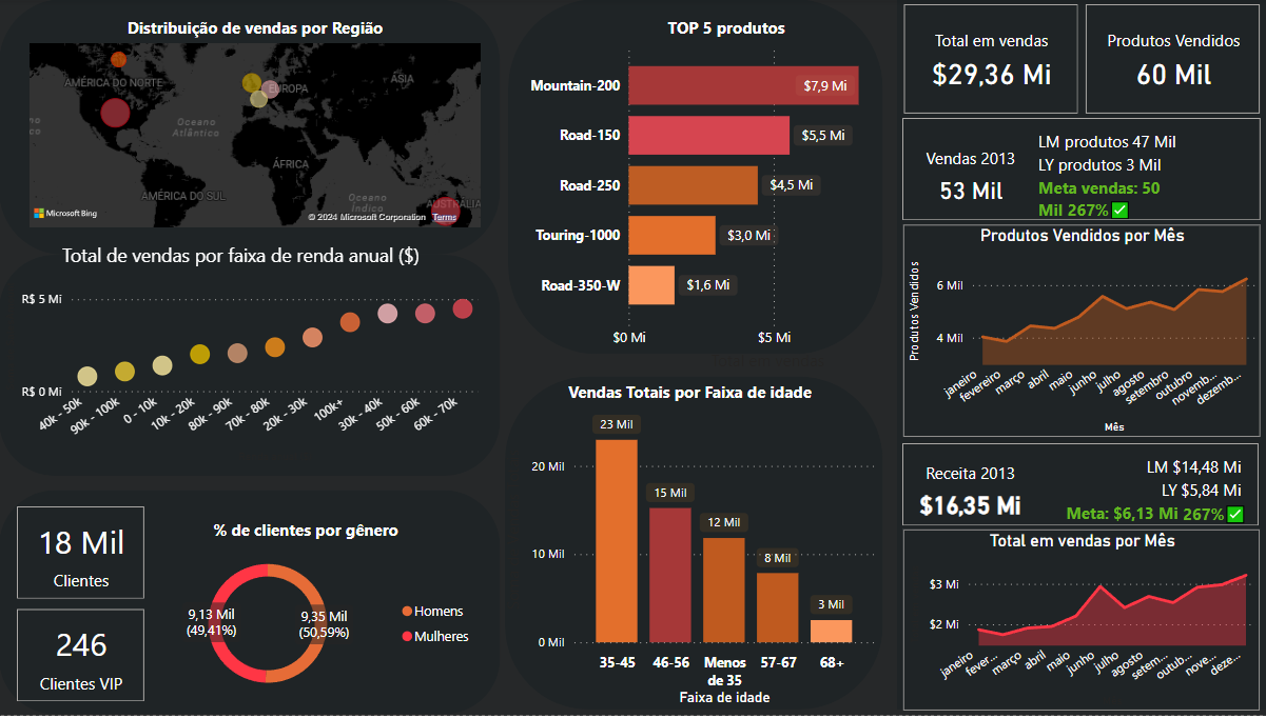

Layout of this report page (visuals, bound fields, positions):
{"tool":"powerbi","page":{"name":"Página 1","canvas":[1280,720],"ordinal":0},"visuals":[{"type":"shape","box":[0,0,503.8,257.5],"z":0},{"type":"shape","box":[0,257.5,503.8,222.5],"z":1000},{"type":"shape","box":[0,494.3,503.8,225.7],"z":2000},{"type":"shape","box":[508.6,379.9,379.9,335.4],"z":3000},{"type":"shape","box":[511.8,0,376.7,357.6],"z":4000},{"type":"shape","box":[902.8,0,376.7,715.2],"z":5000},{"type":"map","title":"Distribuição de vendas por Região","fields":{"Category":["DimGeography.CountryRegionName"],"Size":["Medidas.Total em vendas"]},"box":[25.4,17.5,464.1,217.7],"z":6000},{"type":"clusteredBarChart","title":"TOP 5 produtos","fields":{"Category":["DimProduct.EnglishProductName","DimProductCategory.Product Category Name"],"Y":["Medidas.Total em vendas"]},"box":[527.7,17.5,406.9,360.8],"z":7000},{"type":"areaChart","fields":{"Y":["Medidas.Total em vendas"],"Category":["DimCalendário.Date.Variation.Hierarquia de datas.Mês"]},"box":[909.1,533.6,358.2,181.8],"z":8000},{"type":"cardVisual","fields":{"Data":["Medidas.Total em vendas em 2013"]},"box":[903.3,441.1,368.9,93.3],"z":9000},{"type":"cardVisual","fields":{"Data":["Medidas.Produtos vendidos em 2013"]},"box":[903.3,114,370,113.3],"z":10000},{"type":"stackedAreaChart","fields":{"Category":["DimCalendário.Date.Variation.Hierarquia de datas.Mês"],"Y":["Medidas.Total de produtos Vendidas"]},"box":[909.2,226.9,358.5,213.1],"z":11000},{"type":"clusteredColumnChart","title":" Vendas Totais por Faixa de idade ","fields":{"Category":["DimCustomer.Faixa de idade"],"Y":["Sum(DimCustomer.Vendas Totais)"]},"box":[503.8,384.6,381.5,330.6],"z":12000},{"type":"cardVisual","fields":{"Data":["Medidas.Total em vendas","Medidas.Produtos Vendidos"]},"box":[904.6,0,368.5,120],"z":13000},{"type":"donutChart","title":"% de clientes por gênero","fields":{"Y":["Medidas.Clientes Homens","Medidas.Clientes Mulheres"]},"box":[130.3,522.9,356,189.1],"z":14000},{"type":"cardVisual","fields":{"Data":["Medidas.Clientes VIP"]},"box":[12.7,608.7,138.3,103.3],"z":15000},{"type":"cardVisual","fields":{"Data":["Medidas.Clientes"]},"box":[12.7,505.4,138.3,103.3],"z":16000},{"type":"scatterChart","title":"Total de vendas por faixa de renda anual ($)","fields":{"X":["DimCustomer.Renda anual ($)"],"Y":["Sum(FactSales.SalesAmount)"]},"box":[0,244.8,486.4,225.7],"z":17000}]}

Visuals, with their boxes in screenshot pixels (x1, y1, x2, y2), scaled from the page's 1280x720 canvas onto the 1266x716 screenshot:
shape: crop(0, 0, 498, 256)
shape: crop(0, 256, 498, 477)
shape: crop(0, 492, 498, 715)
shape: crop(503, 378, 879, 711)
shape: crop(506, 0, 879, 356)
shape: crop(893, 0, 1265, 711)
"Distribuição de vendas por Região" map: crop(25, 17, 484, 234)
"TOP 5 produtos" clusteredBarChart: crop(522, 17, 924, 376)
areaChart - Medidas.Total em vendas x DimCalendário.Date.Variation.Hierarquia de datas.Mês: crop(899, 531, 1253, 711)
cardVisual - Medidas.Total em vendas em 2013: crop(893, 439, 1258, 531)
cardVisual - Medidas.Produtos vendidos em 2013: crop(893, 113, 1259, 226)
stackedAreaChart - DimCalendário.Date.Variation.Hierarquia de datas.Mês x Medidas.Total de produtos Vendidas: crop(899, 226, 1254, 438)
" Vendas Totais por Faixa de idade " clusteredColumnChart: crop(498, 382, 876, 711)
cardVisual - Medidas.Total em vendas x Medidas.Produtos Vendidos: crop(895, 0, 1259, 119)
"% de clientes por gênero" donutChart: crop(129, 520, 481, 708)
cardVisual - Medidas.Clientes VIP: crop(13, 605, 149, 708)
cardVisual - Medidas.Clientes: crop(13, 503, 149, 605)
"Total de vendas por faixa de renda anual ($)" scatterChart: crop(0, 243, 481, 468)
